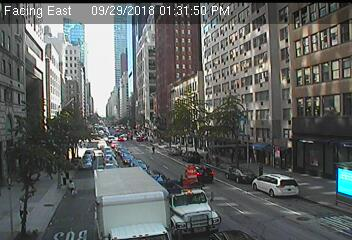car: (93, 168, 170, 240), (153, 180, 222, 238), (252, 173, 298, 199), (225, 166, 256, 183), (185, 166, 213, 183), (182, 151, 200, 163), (129, 158, 145, 169), (104, 164, 118, 174), (80, 158, 92, 169), (123, 155, 136, 164), (167, 148, 180, 156), (103, 159, 116, 166), (134, 164, 148, 170), (120, 152, 133, 158), (82, 154, 92, 161), (84, 149, 94, 156), (104, 155, 114, 160)
